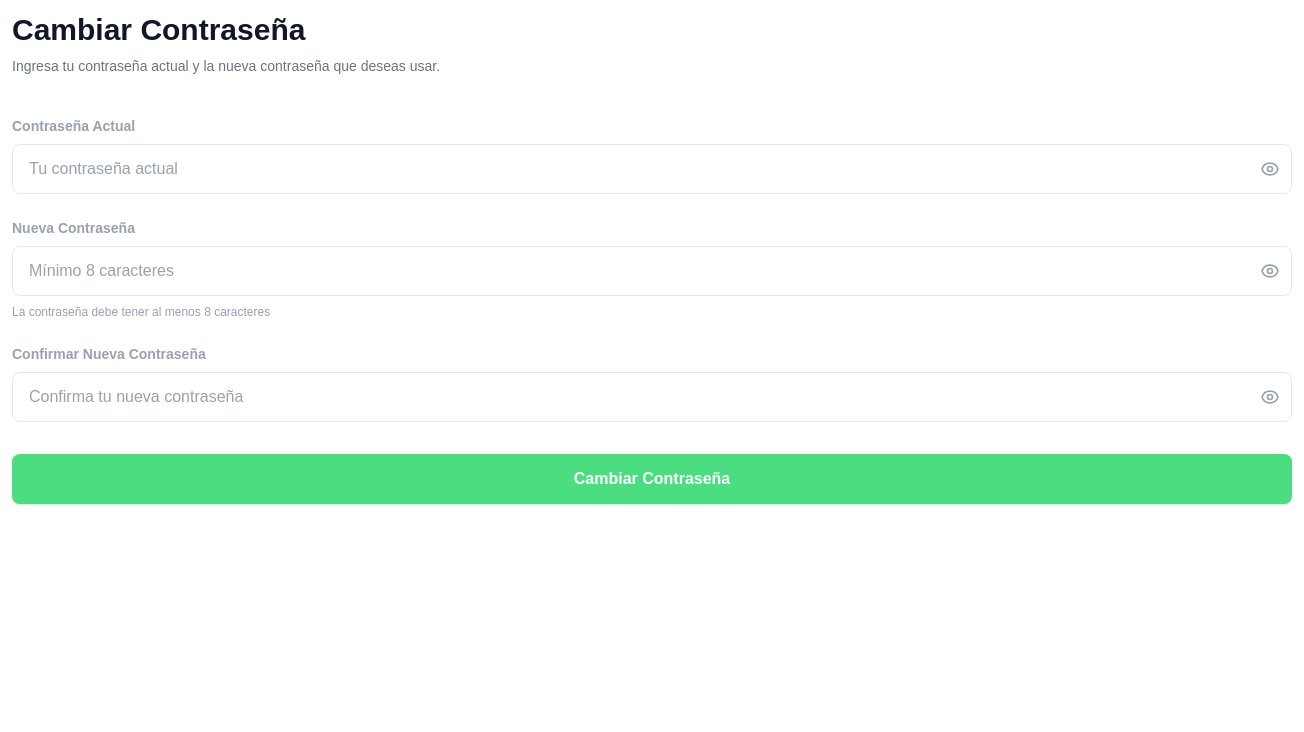
Test: ChangePasswordForm › validación del formulario › debería mostrar error cuando la nueva contraseña es igual a la actual
Type "samePassword123" into the password field with placeholder "Tu contraseña actual" at [652, 169], box x1=12 y1=144 x2=1292 y2=194
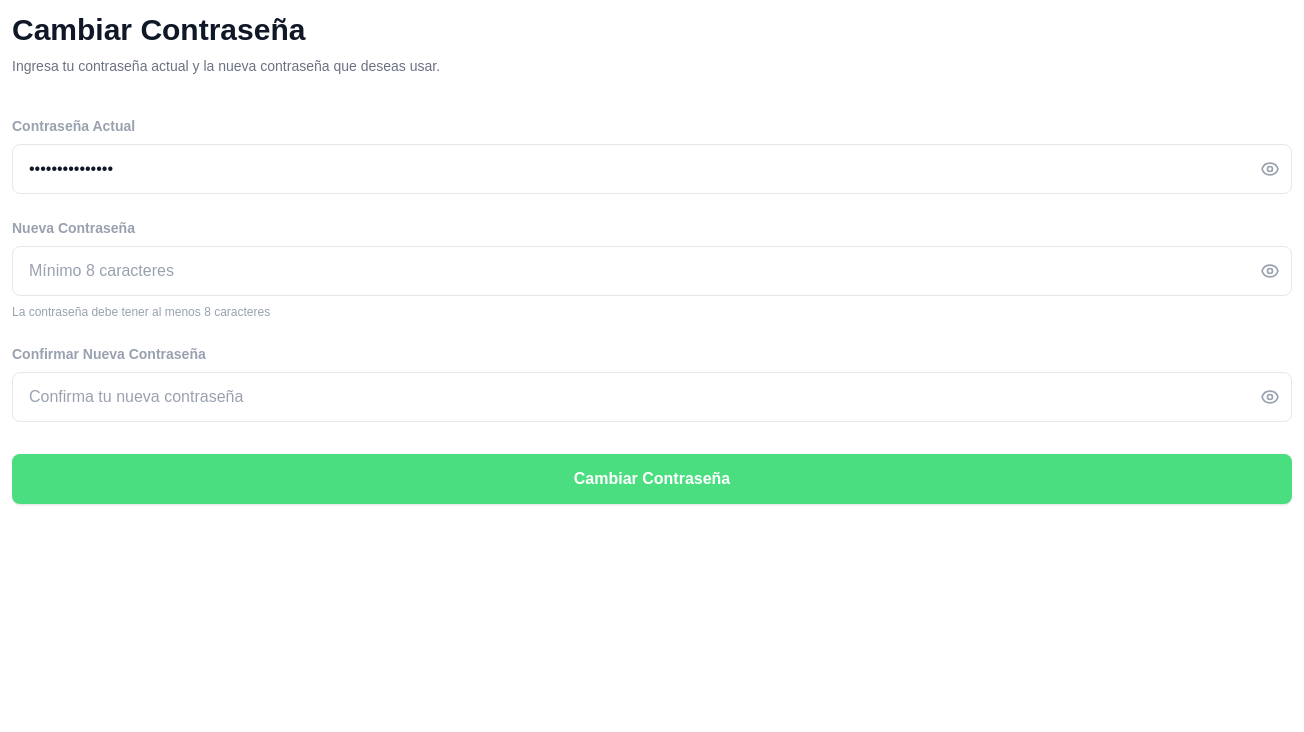
Type "samePassword123" into the password field with placeholder "Mínimo 8 caracteres" at [652, 271], box x1=12 y1=246 x2=1292 y2=296
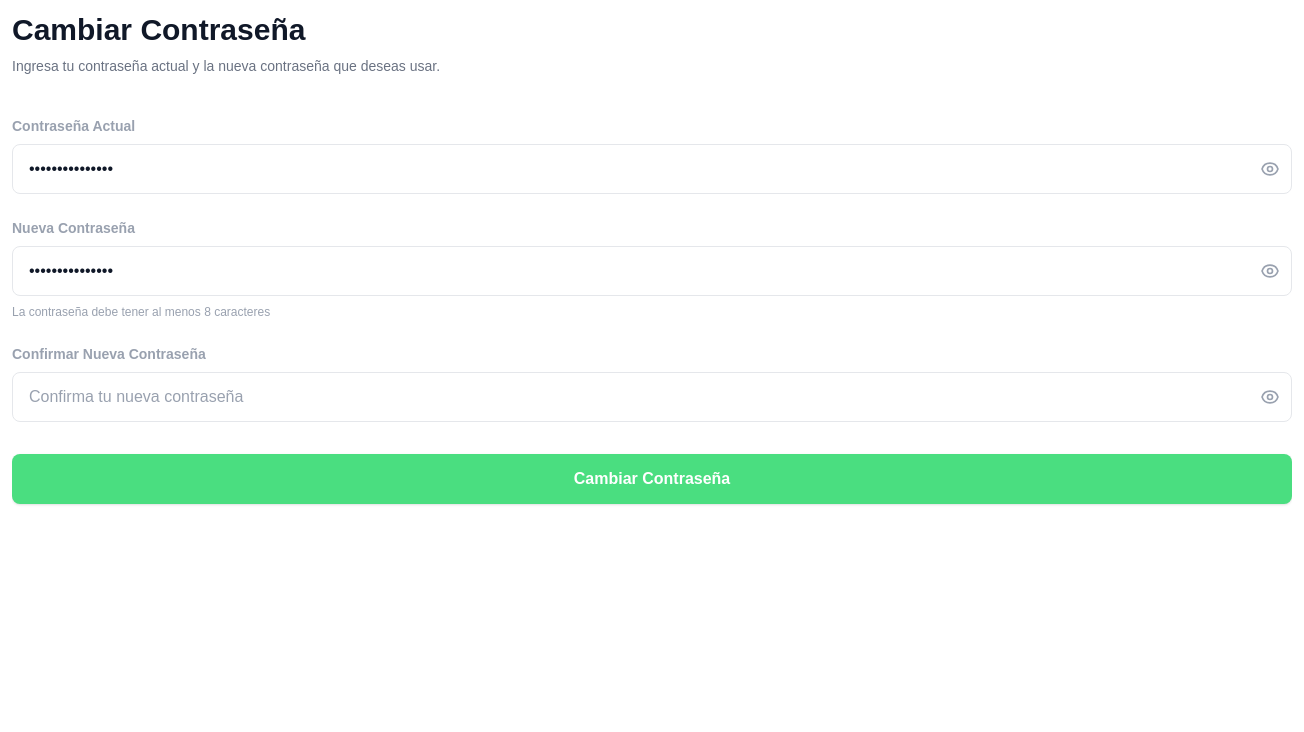
Type "samePassword123" into the password field with placeholder "Confirma tu nueva contraseña" at [652, 397], box x1=12 y1=372 x2=1292 y2=422
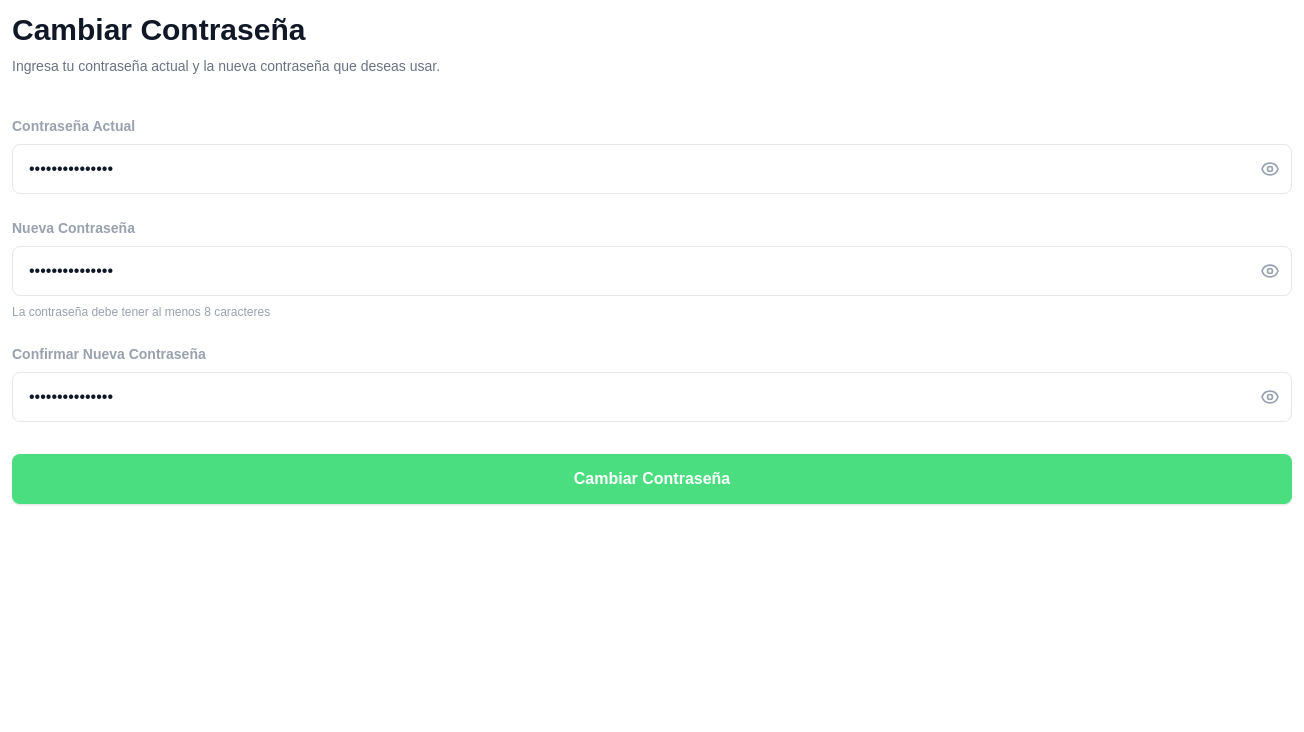
Submit the form named "cambiar contraseña", box x1=12 y1=116 x2=1292 y2=504
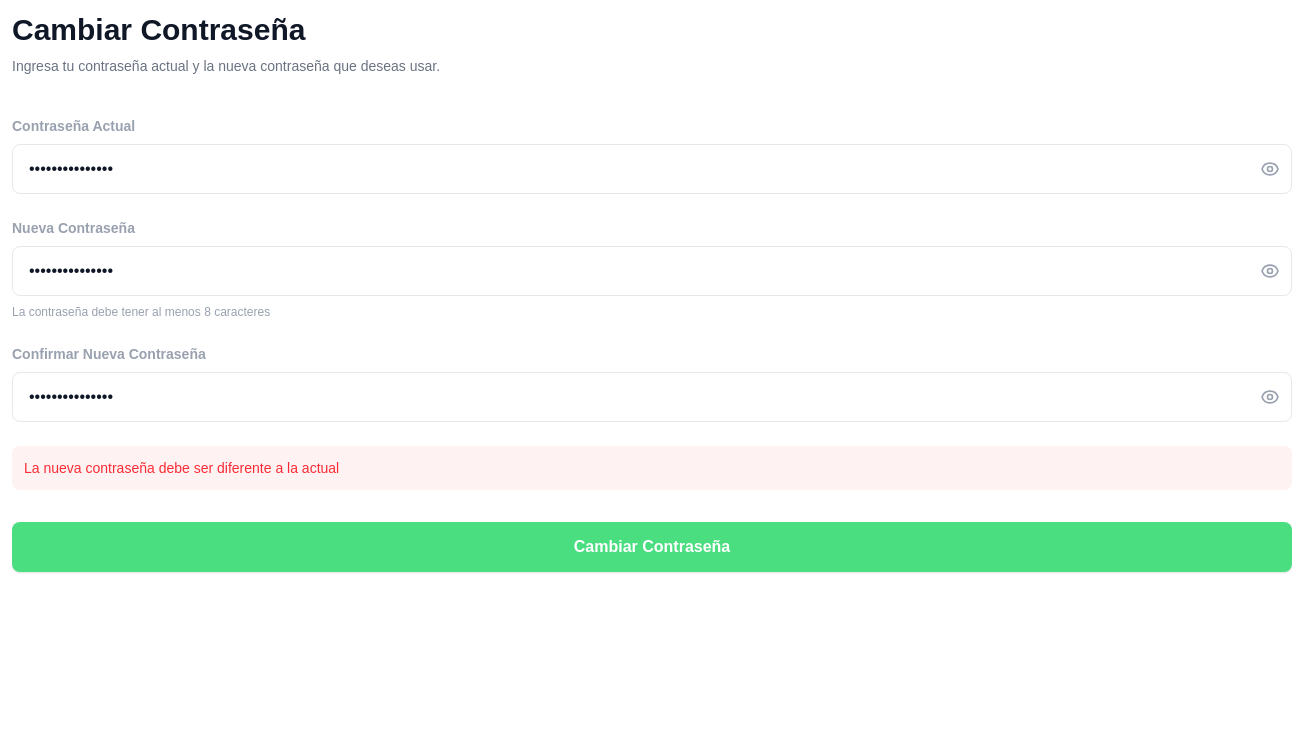
expect the text "La nueva contraseña debe ser diferente a la actual" is shown: met, box x1=12 y1=446 x2=1292 y2=490
